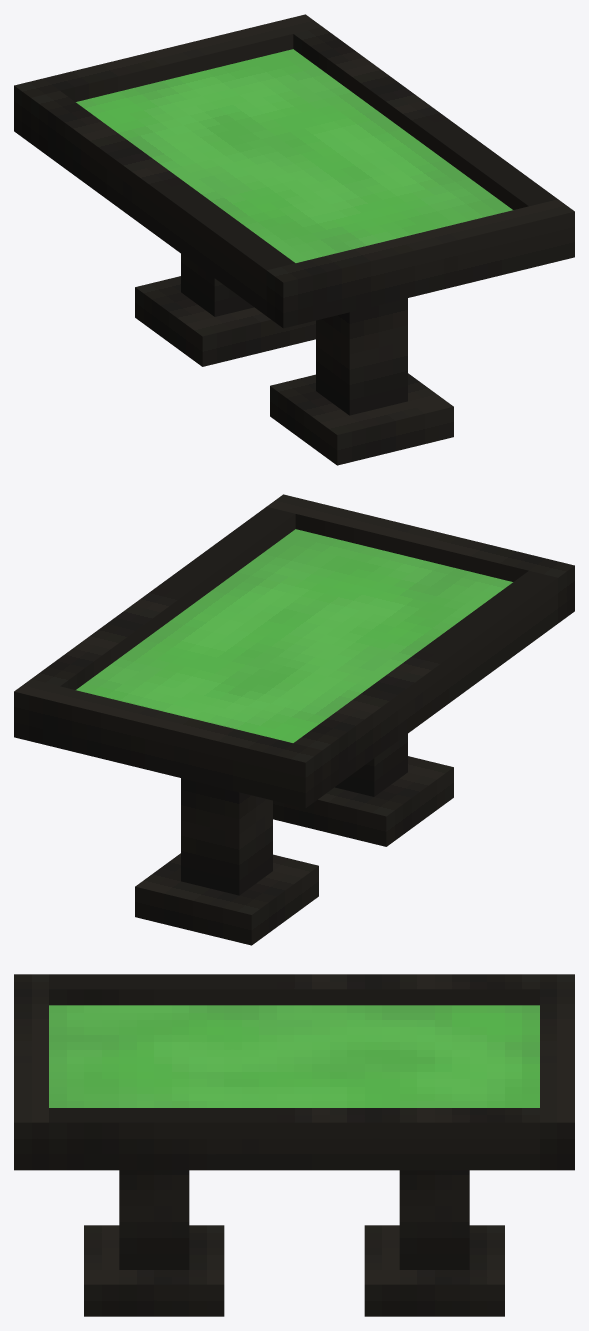
Rendered from poker_table.glb.
The picture shows the model from 3 angles, top to bottom: view 1: azimuth 30°, elevation 25°; view 2: azimuth 150°, elevation 25°; view 3: azimuth 270°, elevation 25°; orthographic projection. The views are drawn at different scales.
Parts seen in each view (by area): view 1: cube (×9); view 2: cube (×9); view 3: cube (×9).
Part boxes in pixels (bbox=[...]): cube (×9): bbox=[14, 14, 574, 465]; cube (×9): bbox=[14, 494, 574, 945]; cube (×9): bbox=[14, 974, 574, 1316].
Size of the model in its own units: 1.25 by 0.9375 by 2.
Materials: 4 (2 with a texture image).
